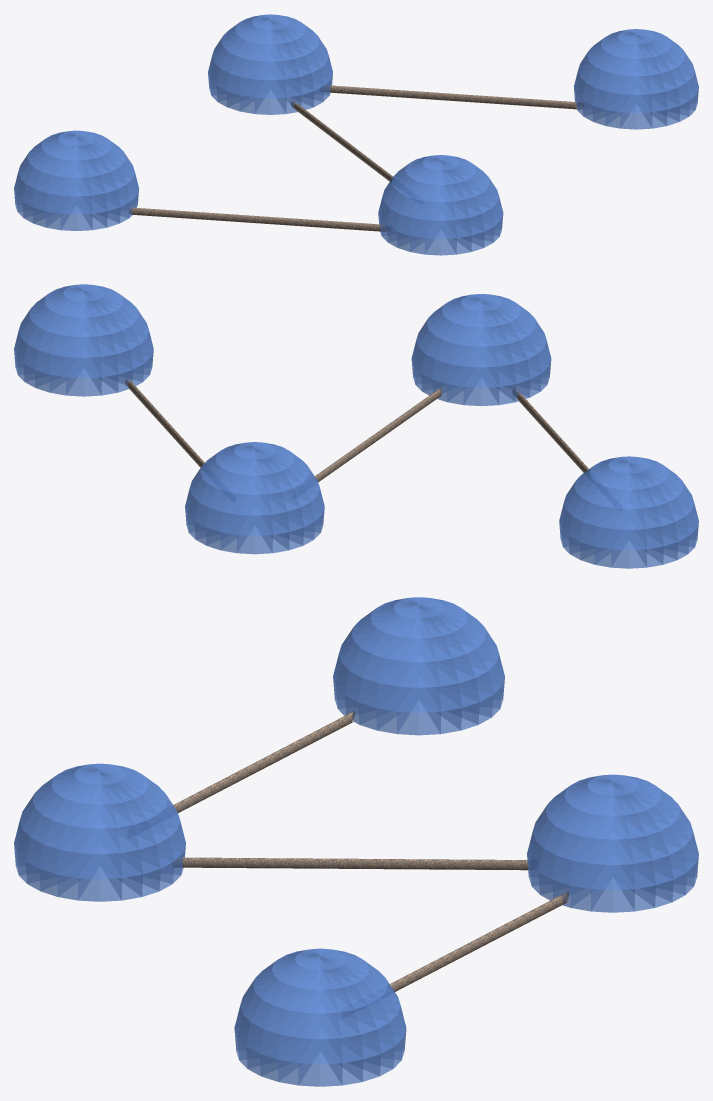
Rendered from shelter-plot.fbx.
3 views of the same model, one above another, from view 1: azimuth 30°, elevation 25°; view 2: azimuth 150°, elevation 25°; view 3: azimuth 270°, elevation 25° (orthographic). The views are drawn at different scales.
Parts seen in each view (by area): view 1: Component1, Component3, Component4, Component2, Model; view 2: Component4, Component2, Component3, Component1, Model; view 3: Component3, Component1, Component4, Component2, Model.
Boxes of the visible parts, box(x1,y1,x2,y2) form: Component1: box(378, 155, 503, 255); Component3: box(574, 29, 698, 129); Component4: box(14, 130, 138, 230); Component2: box(208, 14, 332, 114); Model: box(129, 85, 582, 231); Component4: box(559, 456, 698, 568); Component2: box(185, 442, 324, 554); Component3: box(14, 284, 153, 396); Component1: box(411, 294, 551, 406); Model: box(125, 379, 588, 481); Component3: box(234, 948, 406, 1086); Component1: box(14, 763, 185, 901); Component4: box(333, 597, 504, 735); Component2: box(527, 774, 698, 912); Model: box(173, 711, 568, 991).
Bounding box in the file's own units: 42.18 × 4.42 × 28.79.
